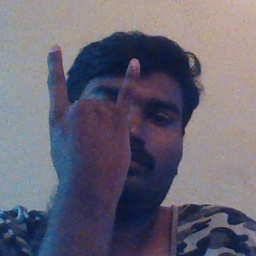V: (34, 38, 148, 187)
